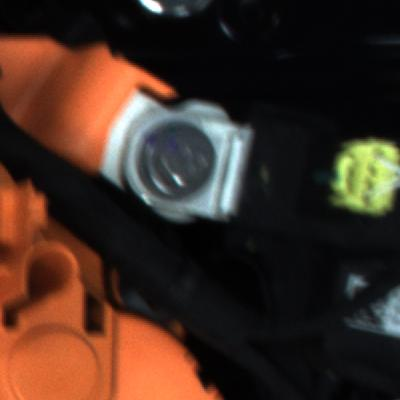nut_b: (130, 115, 223, 210)
